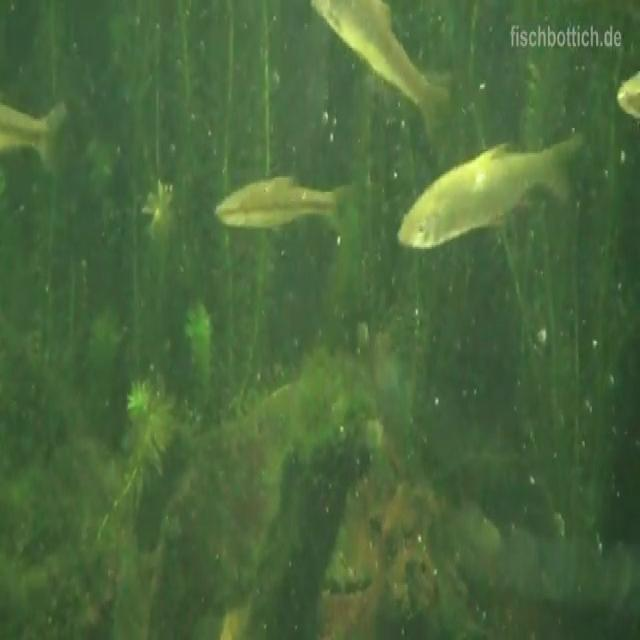Cakil Baligi: (397, 129, 580, 251), (215, 177, 376, 236)
